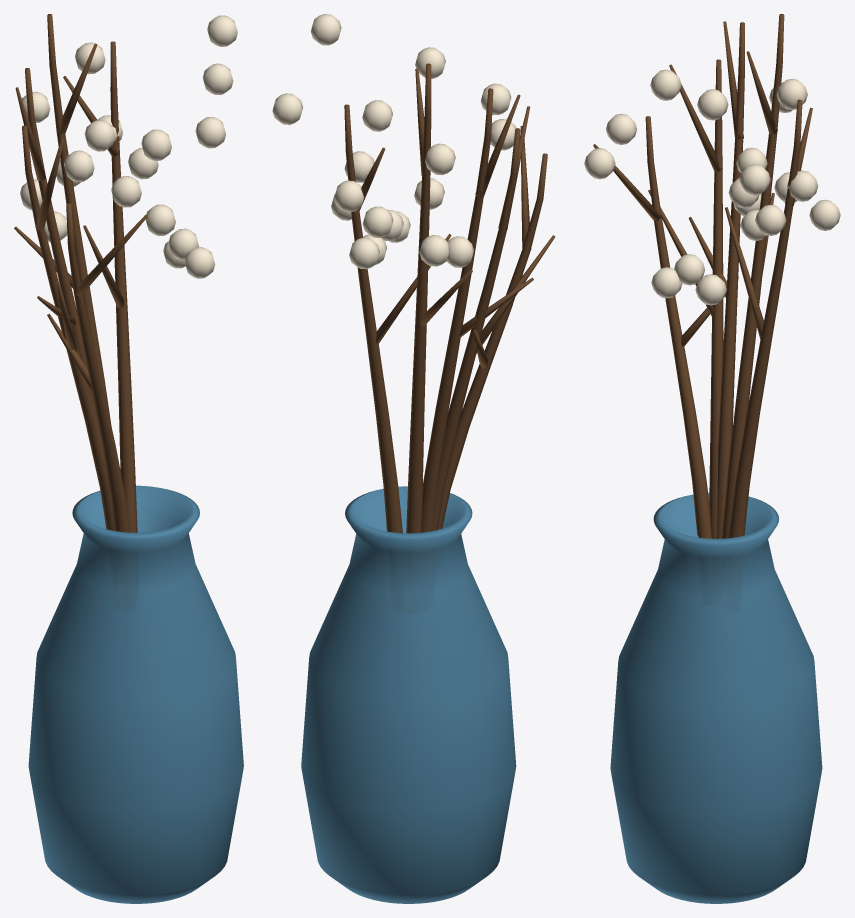
The model's file is living-vase.glb.
The picture shows the model from 3 angles, left to right: view 1: azimuth 30°, elevation 25°; view 2: azimuth 150°, elevation 25°; view 3: azimuth 270°, elevation 25°; orthographic projection.
Visible parts, largest first — view 1: Vase__Body, Vase__Twigs, Vase__Buds; view 2: Vase__Body, Vase__Twigs, Vase__Buds; view 3: Vase__Body, Vase__Twigs, Vase__Buds.
Part boxes in pixels (bbox=[...]): Vase__Body: bbox=[28, 485, 243, 903]; Vase__Twigs: bbox=[14, 14, 147, 532]; Vase__Buds: bbox=[20, 15, 237, 278]; Vase__Body: bbox=[301, 486, 516, 903]; Vase__Twigs: bbox=[344, 63, 555, 533]; Vase__Buds: bbox=[272, 14, 516, 269]; Vase__Body: bbox=[610, 492, 822, 903]; Vase__Twigs: bbox=[593, 14, 812, 538]; Vase__Buds: bbox=[584, 69, 840, 305].
Size of the model in its own units: 13.39 by 46.92 by 13.07.
